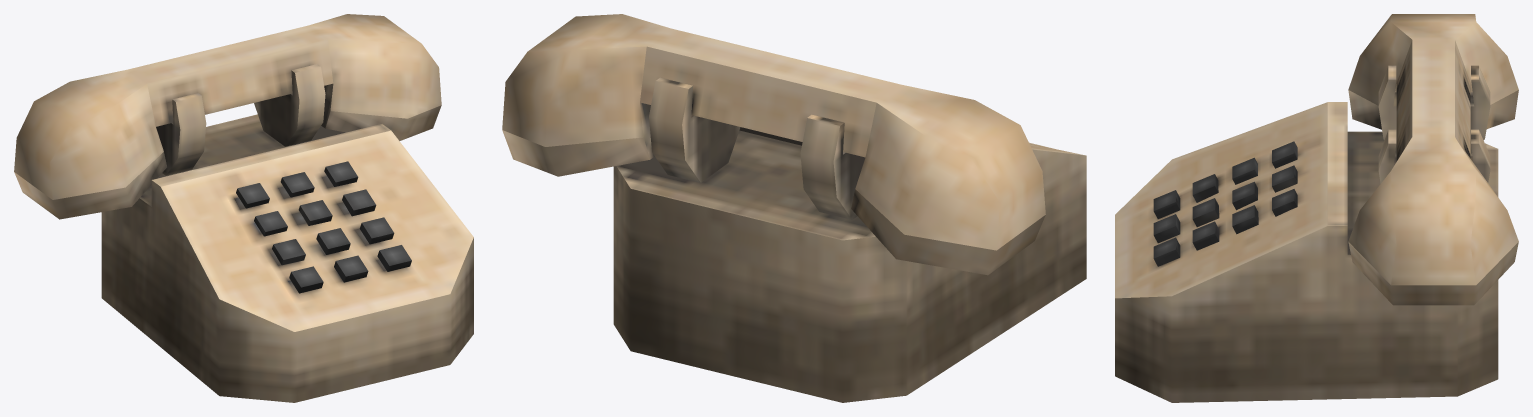
Rendered from telephone.fbx.
3 views of the same model, side by side, from view 1: azimuth 30°, elevation 25°; view 2: azimuth 150°, elevation 25°; view 3: azimuth 270°, elevation 25° (orthographic). The views are drawn at different scales.
Visible parts, largest first — view 1: telephone_01, telephone_02; view 2: telephone_01, telephone_02; view 3: telephone_01, telephone_02.
Boxes of the visible parts, x1,y1,x2,y2 form: telephone_01: (101, 64, 473, 402); telephone_02: (14, 14, 441, 219); telephone_01: (613, 77, 1086, 402); telephone_02: (502, 14, 1045, 275); telephone_01: (1115, 65, 1498, 402); telephone_02: (1348, 14, 1518, 305).
Bounding box in the file's own units: 34.18 × 18.77 × 27.9.
1 material, 1 textured.
